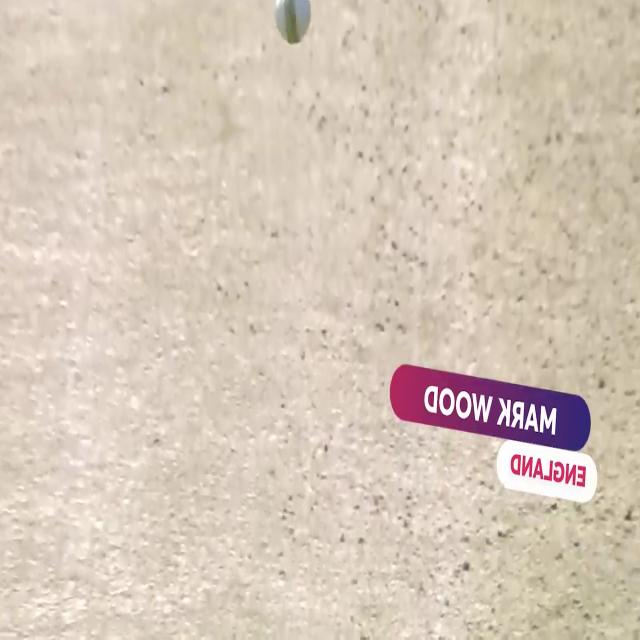ball: (270, 1, 314, 47)
